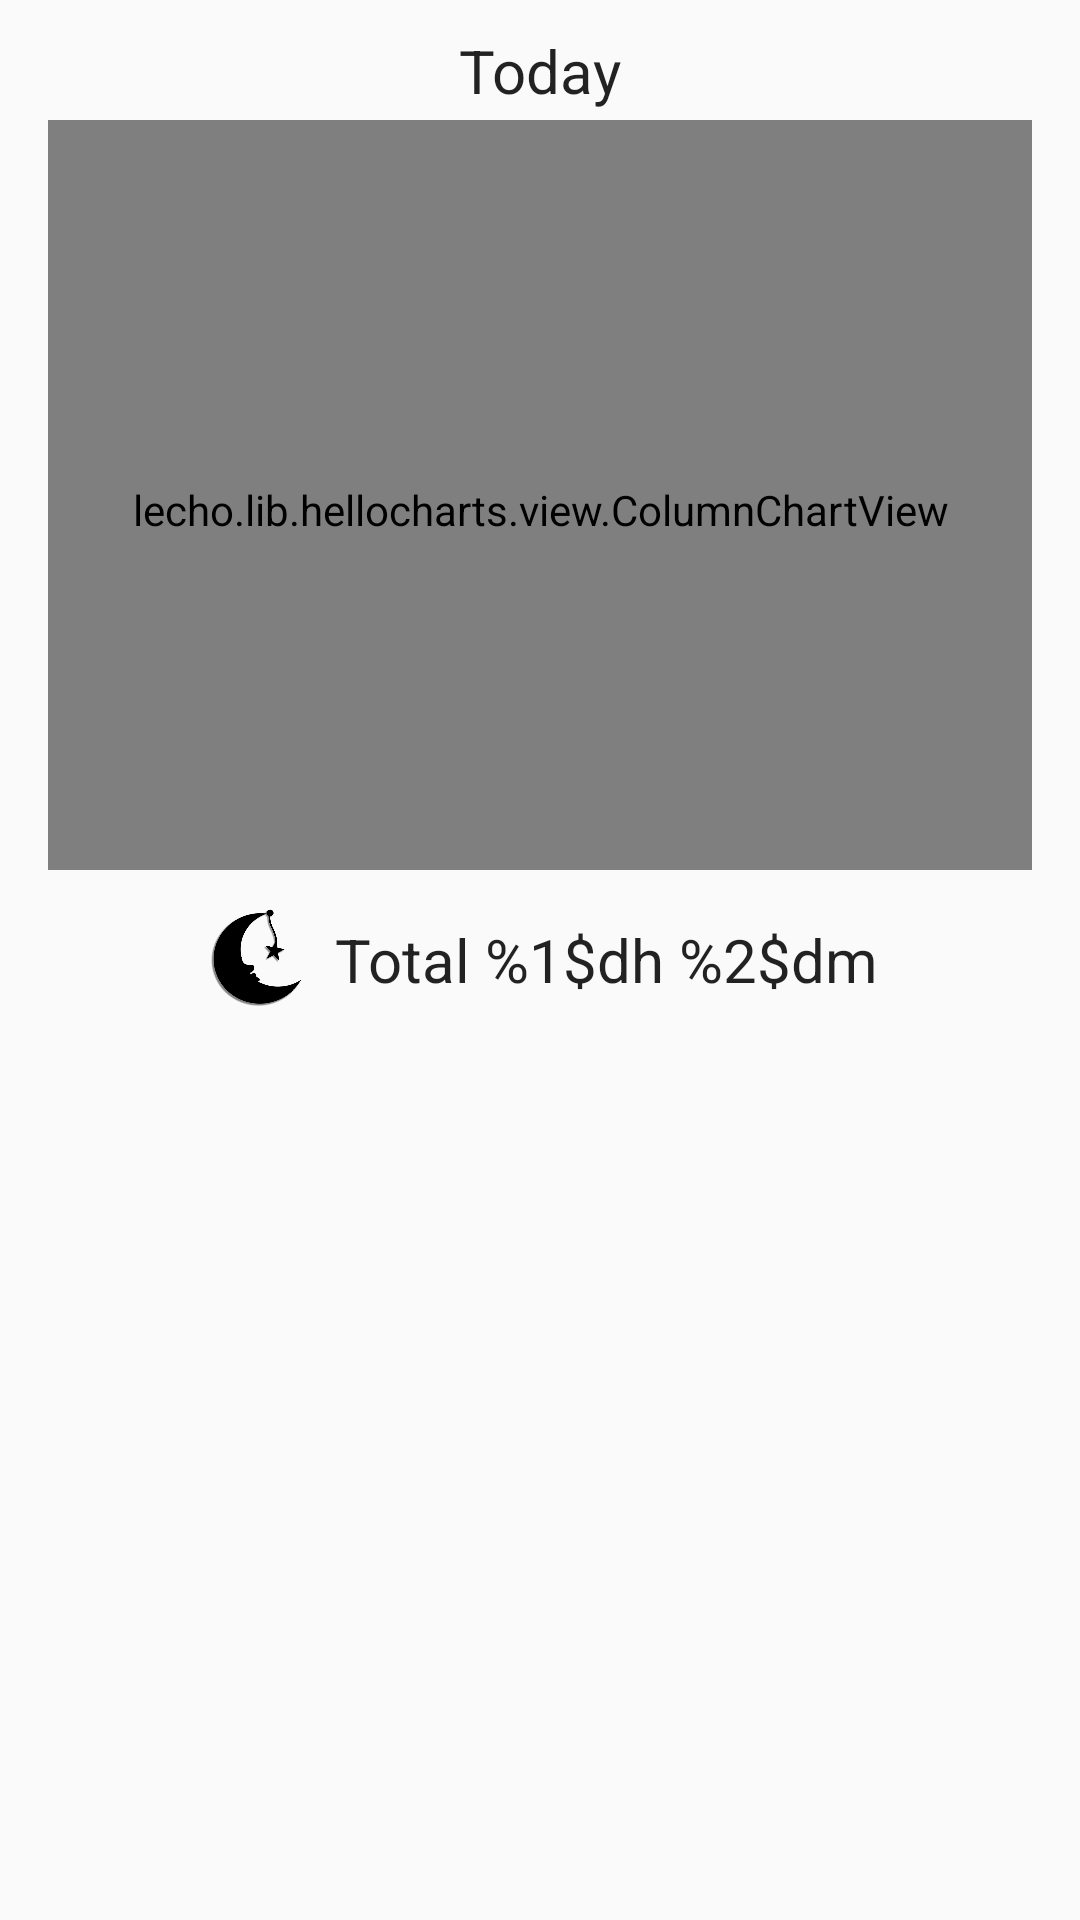

Icon bounding boxes for this 1080px x 1920px phone screenshot, format (x1, y1, x2, y2):
day sleep: (211, 909, 301, 1006)
